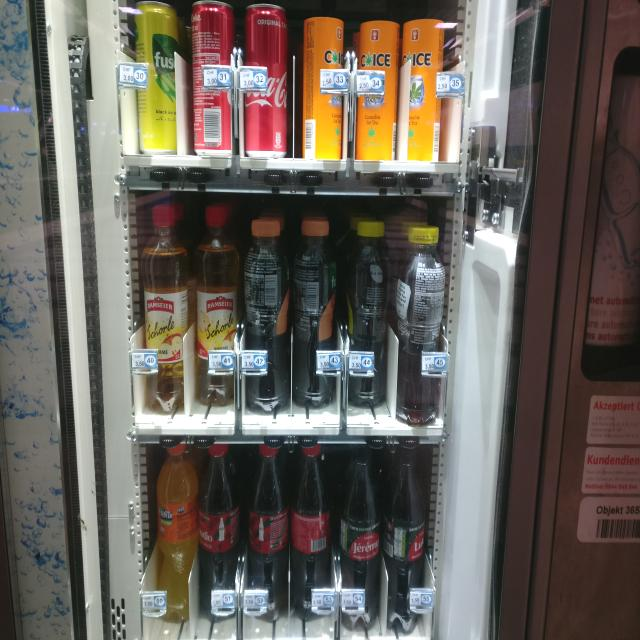c-swiss_dosenabisicetea__33__9120025930135: (403, 14, 445, 160), (302, 15, 342, 162), (359, 18, 398, 166)
coke__dose_33__54491472: (242, 0, 291, 159), (188, 2, 236, 153)
coke__flasche_50__54491472: (338, 443, 384, 630), (293, 441, 336, 621), (389, 447, 431, 624), (249, 445, 290, 620), (199, 444, 239, 621)
fanta___50__40822938: (153, 440, 200, 622)
fuse_lemon__50__5449000235947: (398, 225, 446, 424), (348, 216, 388, 398)
fuse_lemon_dose_33__5449000235947: (133, 2, 182, 151)
fuse_peach__50__5449000236623: (244, 213, 289, 413), (290, 215, 336, 408)
ramseier_schorle__50__7610057012456: (138, 202, 190, 410), (193, 205, 238, 407)
